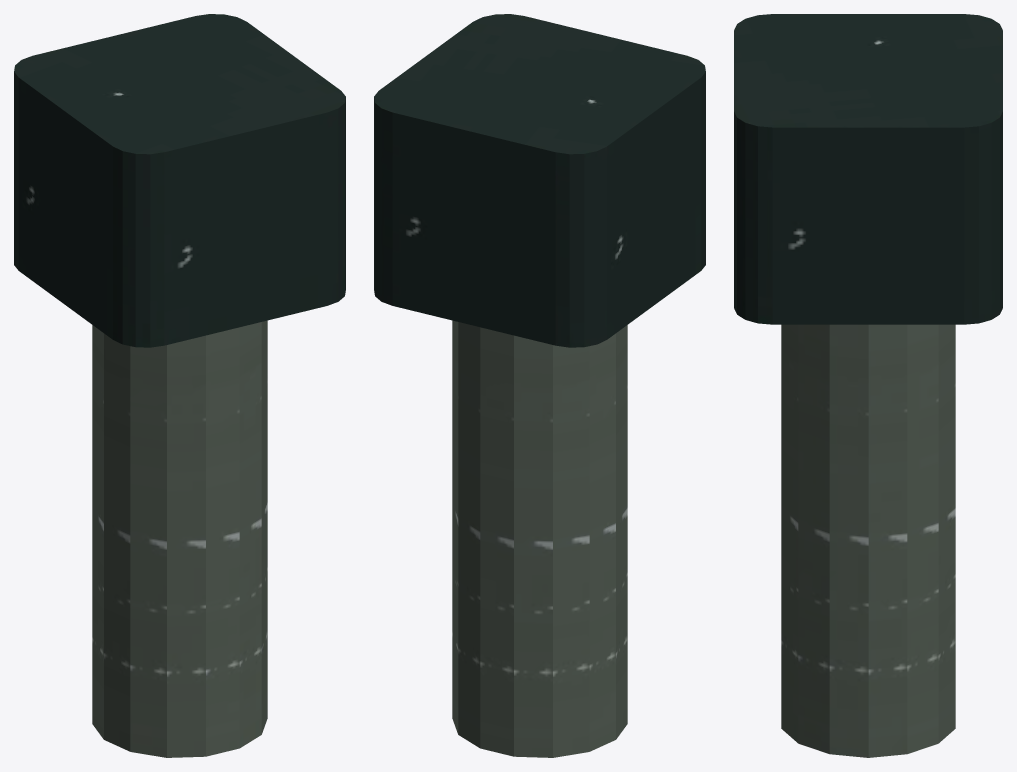
The model's file is ranger-temporary-nav-light.glb.
3 views of the same model, side by side, from view 1: azimuth 30°, elevation 25°; view 2: azimuth 150°, elevation 25°; view 3: azimuth 270°, elevation 25° (orthographic).
Parts seen in each view (by area): view 1: LensUnlit, Stand; view 2: LensUnlit, Stand; view 3: LensUnlit, Stand.
Part boxes in pixels (x1=…): LensUnlit: x1=14, y1=14, x2=345, y2=347; Stand: x1=92, y1=320, x2=267, y2=757; LensUnlit: x1=374, y1=14, x2=705, y2=347; Stand: x1=452, y1=320, x2=627, y2=757; LensUnlit: x1=734, y1=14, x2=1002, y2=324; Stand: x1=781, y1=324, x2=955, y2=757.
Bounding box in the file's own units: 0.42 × 1.12 × 0.42.
1 material, 1 textured.
